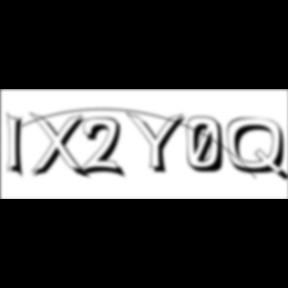0: (186, 115, 232, 174)
2: (80, 117, 130, 181)
I: (7, 110, 31, 182)
X: (29, 112, 93, 182)
Y: (125, 110, 192, 176)
